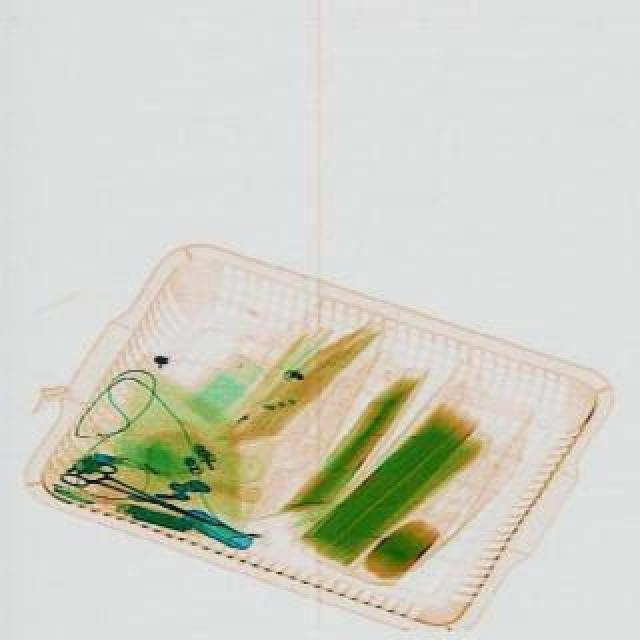pliers: (54, 446, 228, 542)
